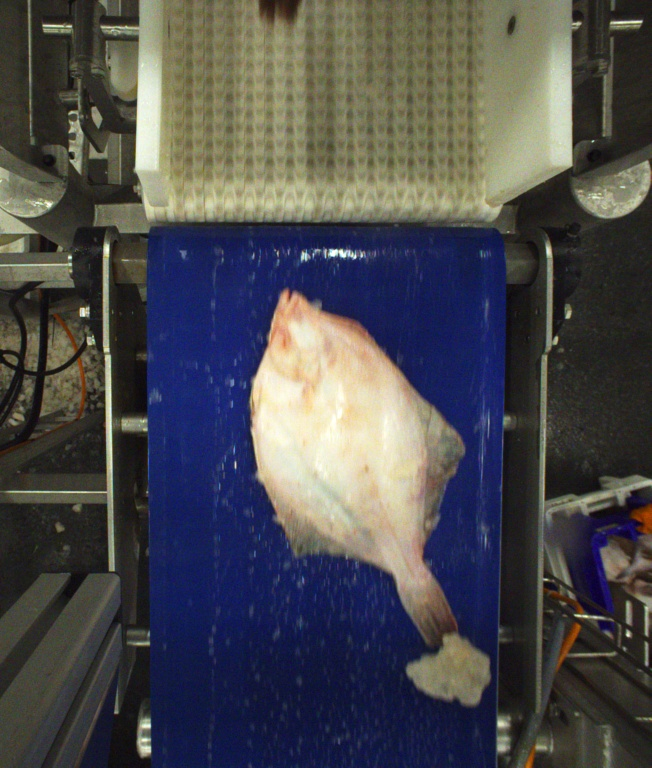PLE: (247, 289, 459, 651)
